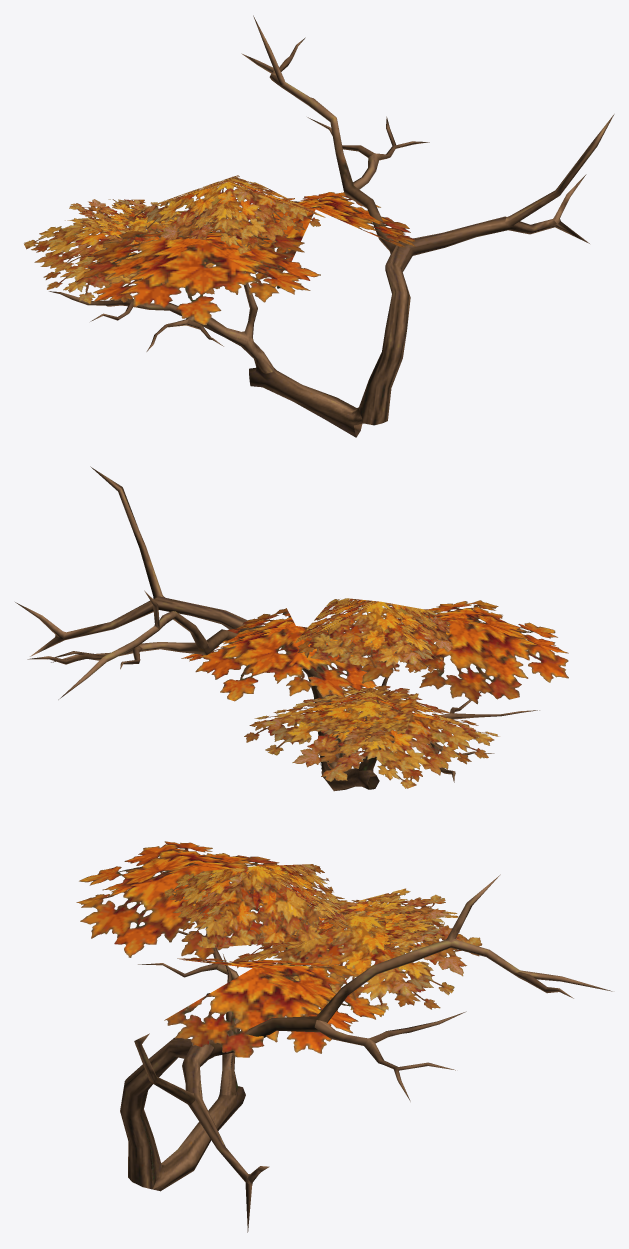
The model's file is 7003_Item_shu_5.FBX.
3 views of the same model, one above another, from view 1: azimuth 30°, elevation 25°; view 2: azimuth 150°, elevation 25°; view 3: azimuth 270°, elevation 25° (orthographic). The views are drawn at different scales.
Parts seen in each view (by area): view 1: 7003_Item_shu_5; view 2: 7003_Item_shu_5; view 3: 7003_Item_shu_5.
Part boxes in pixels (x1,y1,x2,y2): 7003_Item_shu_5: [24, 15, 614, 437]; 7003_Item_shu_5: [15, 466, 568, 791]; 7003_Item_shu_5: [76, 841, 612, 1232].
Bounding box in the file's own units: 376 × 308 × 194.
Materials: 1 (1 with a texture image).
